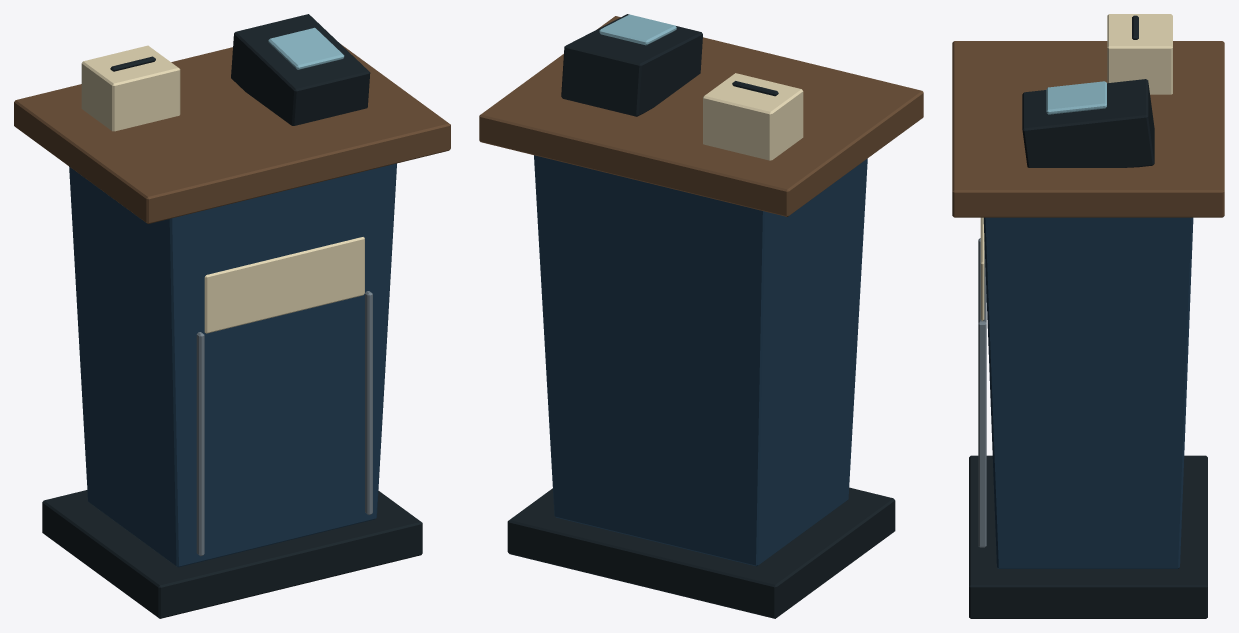
File: b20_festival_ticket_inspection_podium.glb
3 renders of one model, left to right at view 1: azimuth 30°, elevation 25°; view 2: azimuth 150°, elevation 25°; view 3: azimuth 270°, elevation 25°, orthographic.
Visible parts, largest first — view 1: b20_festival_ticket_inspection_podium; view 2: b20_festival_ticket_inspection_podium; view 3: b20_festival_ticket_inspection_podium.
Boxes of the visible parts, x1,y1,x2,y2 form: b20_festival_ticket_inspection_podium: (14,14,450,618); b20_festival_ticket_inspection_podium: (479,14,923,618); b20_festival_ticket_inspection_podium: (952,14,1224,618).
Size of the model in its own units: 0.76 by 1.17 by 0.58.
